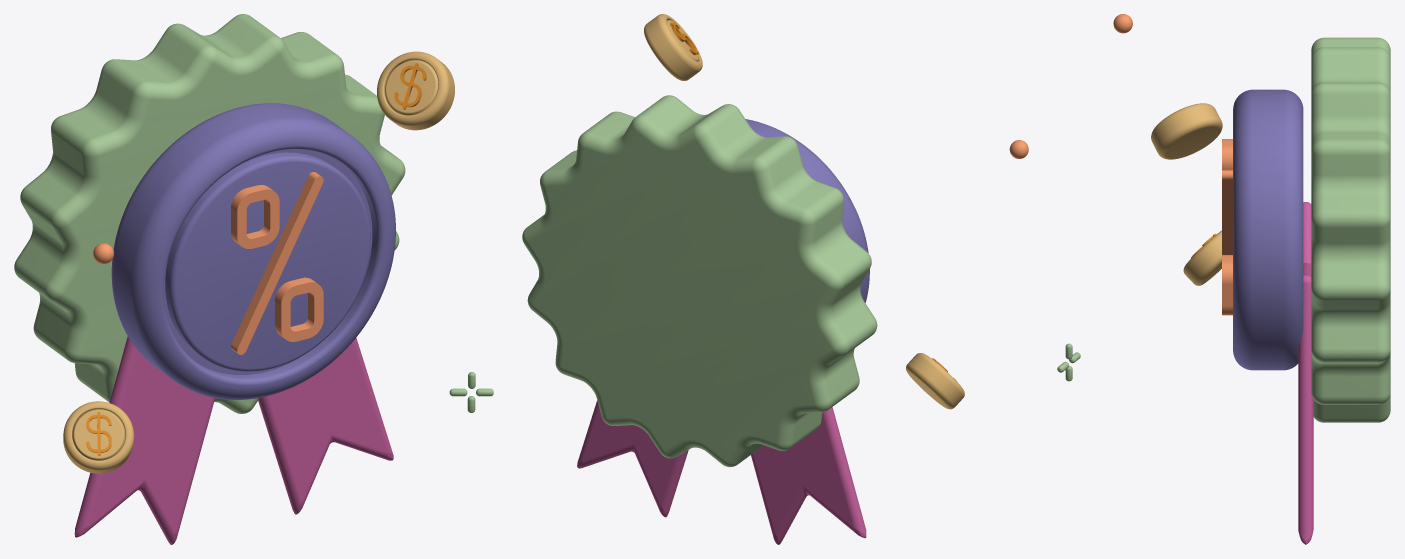
Rendered from sale-badge-3d-animated-icon-295495576031.glb.
The picture shows the model from 3 angles, left to right: view 1: azimuth 30°, elevation 25°; view 2: azimuth 150°, elevation 25°; view 3: azimuth 270°, elevation 25°; orthographic projection. The views are drawn at different scales.
Parts seen in each view (by area): view 1: Cylinder, Circle, Plane, Cylinder.001, Cylinder.004, Curve, Curve.002, Curve.001, Curve.003; view 2: Circle, Plane, Cylinder, Cylinder.001, Cylinder.004; view 3: Circle, Cylinder, Plane, Cylinder.001, Cylinder.004, Curve, Curve.002.
Boxes of the visible parts, x1=… form: Cylinder: x1=111, y1=103, x2=395, y2=399; Circle: x1=14, y1=14, x2=405, y2=413; Plane: x1=74, y1=336, x2=393, y2=544; Cylinder.001: x1=377, y1=51, x2=454, y2=130; Cylinder.004: x1=63, y1=401, x2=134, y2=473; Curve: x1=231, y1=172, x2=323, y2=354; Curve.002: x1=275, y1=277, x2=323, y2=341; Curve.001: x1=231, y1=185, x2=279, y2=248; Curve.003: x1=394, y1=63, x2=426, y2=109; Circle: x1=522, y1=95, x2=877, y2=467; Plane: x1=577, y1=400, x2=866, y2=544; Cylinder: x1=745, y1=119, x2=869, y2=302; Cylinder.001: x1=644, y1=14, x2=702, y2=80; Cylinder.004: x1=906, y1=353, x2=964, y2=409; Circle: x1=1311, y1=37, x2=1390, y2=422; Cylinder: x1=1233, y1=89, x2=1303, y2=370; Plane: x1=1298, y1=202, x2=1313, y2=544; Cylinder.001: x1=1151, y1=103, x2=1222, y2=159; Cylinder.004: x1=1183, y1=230, x2=1221, y2=285; Curve: x1=1222, y1=170, x2=1232, y2=254; Curve.002: x1=1222, y1=255, x2=1232, y2=315.
Bounding box in the file's own units: 1.62 × 1.82 × 1.21.
